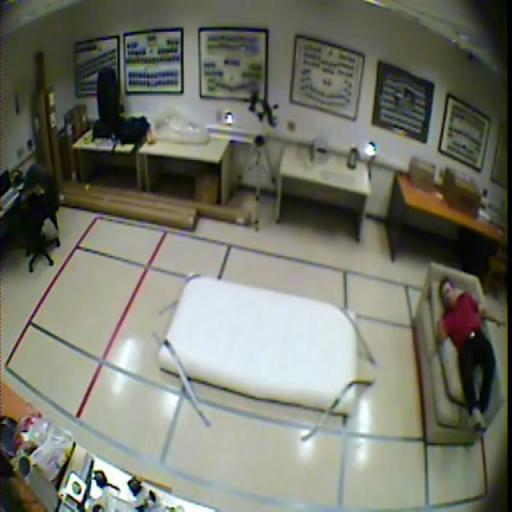Fall: (431, 276, 506, 432)
